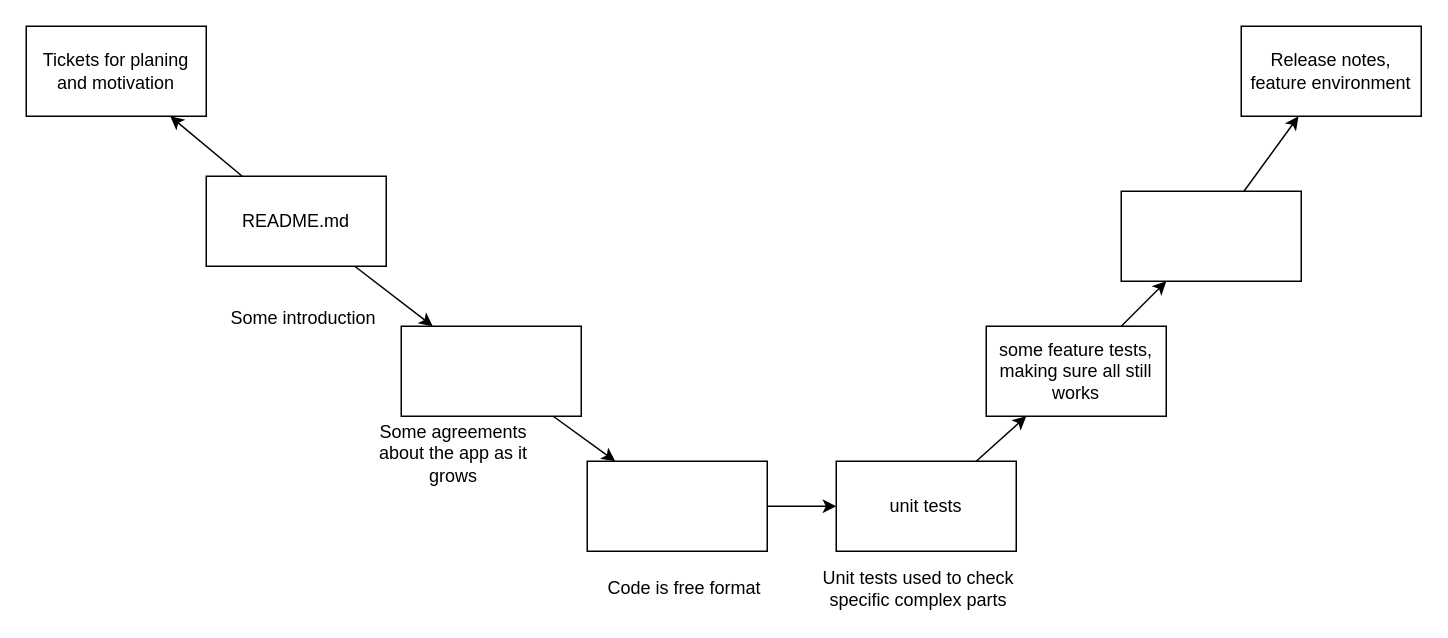
Image size: 1448x638. Some labels were removed from this diagram. Here are the shapes that lost their labels. From the top down, the centre of each, then its label:
At (x=1210, y=235): "Pipeline with checks".
At (x=490, y=370): "docs/designs".
At (x=676, y=505): "code".
